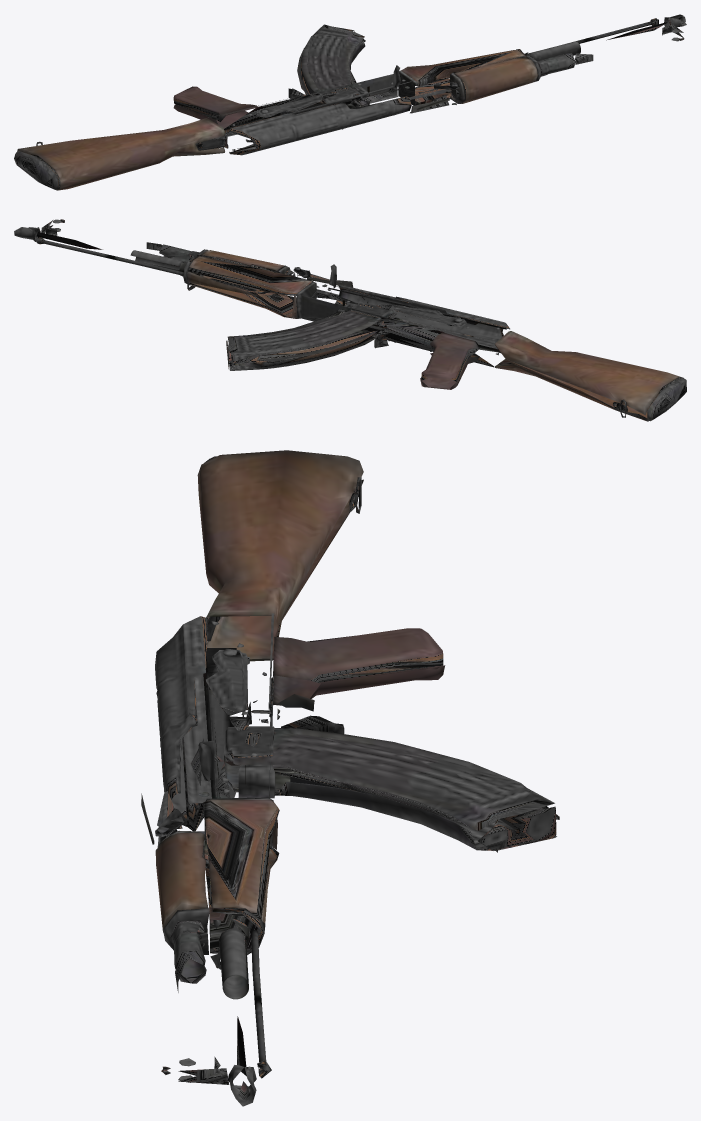
3 views of the same model, one above another, from view 1: azimuth 30°, elevation 25°; view 2: azimuth 150°, elevation 25°; view 3: azimuth 270°, elevation 25° (orthographic). The views are drawn at different scales.
Visible parts, largest first — view 1: p_ak47; view 2: p_ak47; view 3: p_ak47.
Boxes of the visible parts, x1,y1,x2,y2 form: p_ak47: (14, 14, 686, 190); p_ak47: (14, 219, 686, 421); p_ak47: (141, 450, 559, 1106).
Bounding box in the file's own units: 1.35 × 0.1013 × 0.3795.
1 material, 1 textured.
